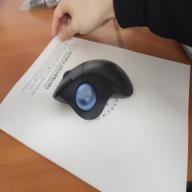mouse: (52, 58, 134, 122)
